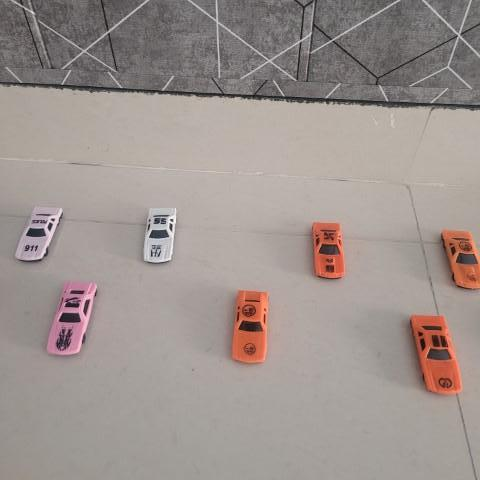car: (409, 312, 467, 398), (45, 280, 105, 360), (230, 286, 272, 365), (13, 204, 63, 266), (309, 218, 347, 280), (141, 203, 177, 264)
